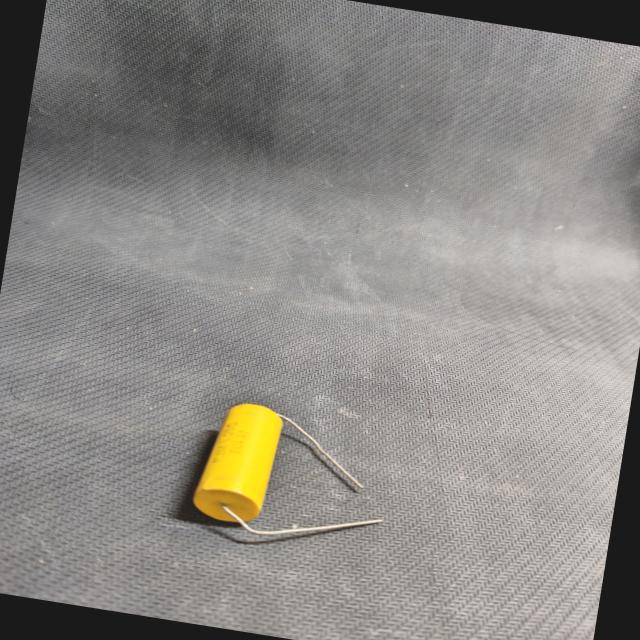capacitor: (175, 385, 410, 569)
